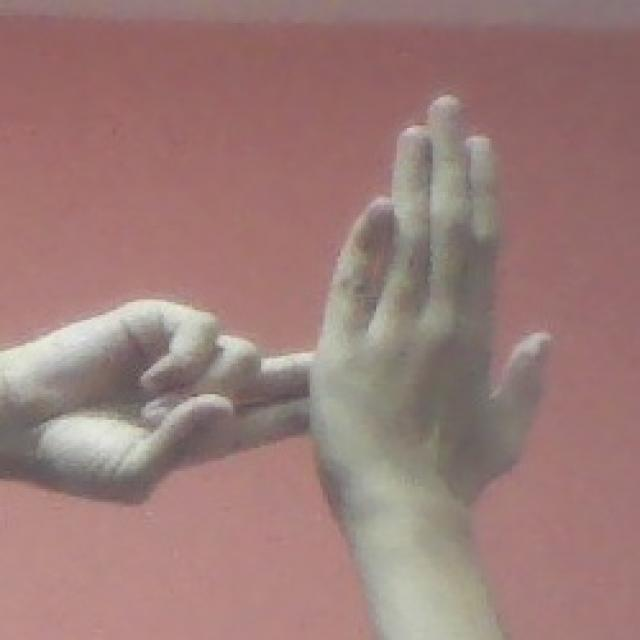Alphabet-N: (0, 72, 586, 555), (611, 299, 612, 299)
